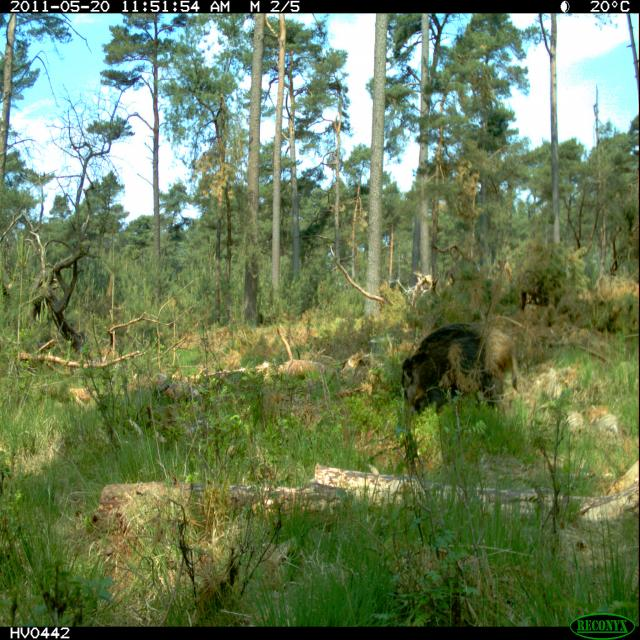boar: (388, 308, 528, 431), (591, 405, 625, 440)
